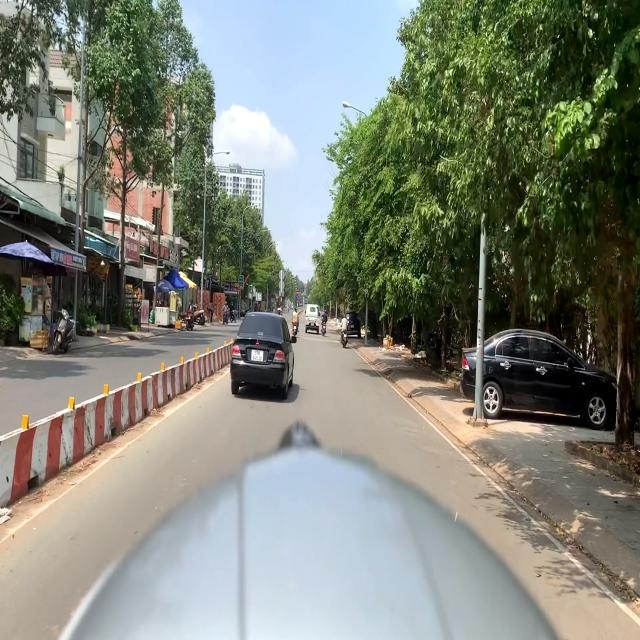bien_cam: (296, 290, 299, 295), (296, 295, 299, 300)
